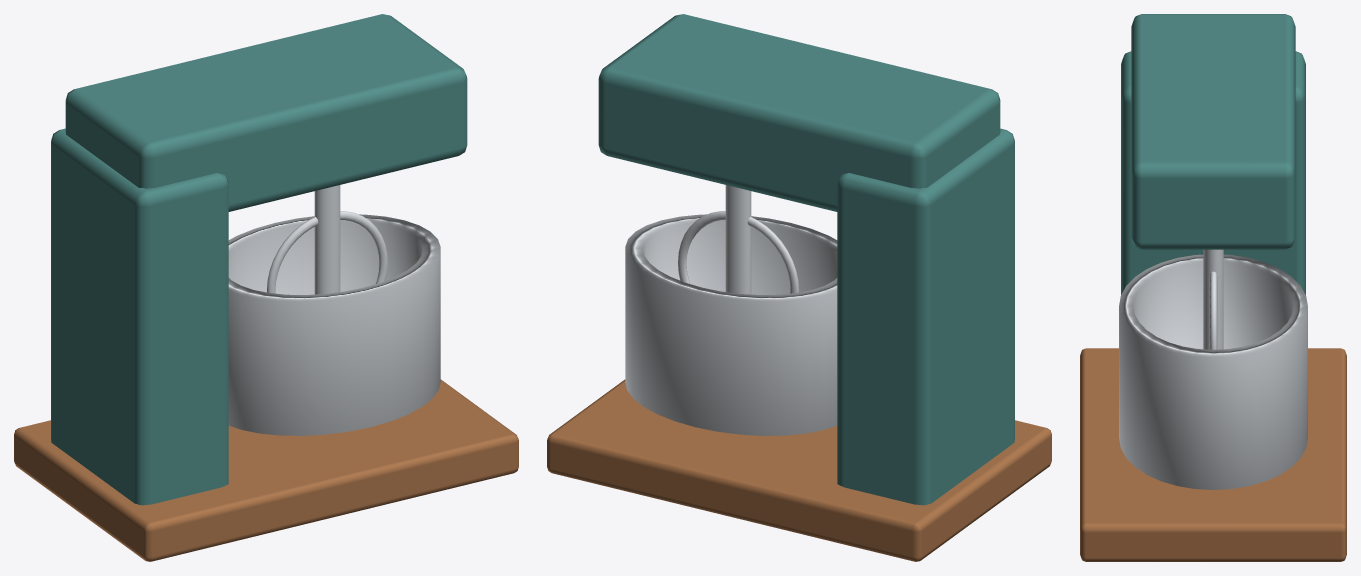
The model's file is wp-robot-patissier.glb.
3 views of the same model, side by side, from view 1: azimuth 30°, elevation 25°; view 2: azimuth 150°, elevation 25°; view 3: azimuth 270°, elevation 25° (orthographic).
Parts seen in each view (by area): view 1: wp-robot-patissier; view 2: wp-robot-patissier; view 3: wp-robot-patissier.
Part boxes in pixels (x1,y1,x2,y2): wp-robot-patissier: [14, 14, 518, 561]; wp-robot-patissier: [547, 14, 1051, 561]; wp-robot-patissier: [1080, 14, 1346, 561].
Size of the model in its own units: 0.4 by 0.4 by 0.25.
